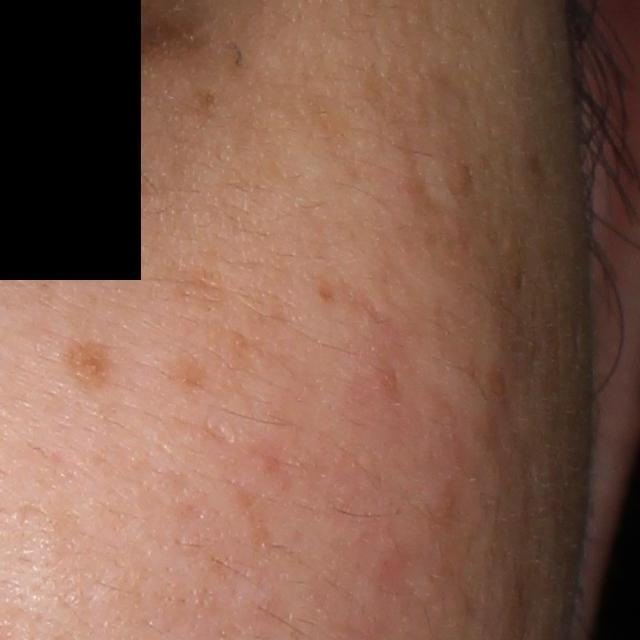melasma: (356, 63, 454, 264), (291, 63, 368, 191), (159, 263, 237, 313), (228, 329, 290, 381), (166, 352, 221, 407), (62, 340, 115, 392), (184, 89, 221, 129)
